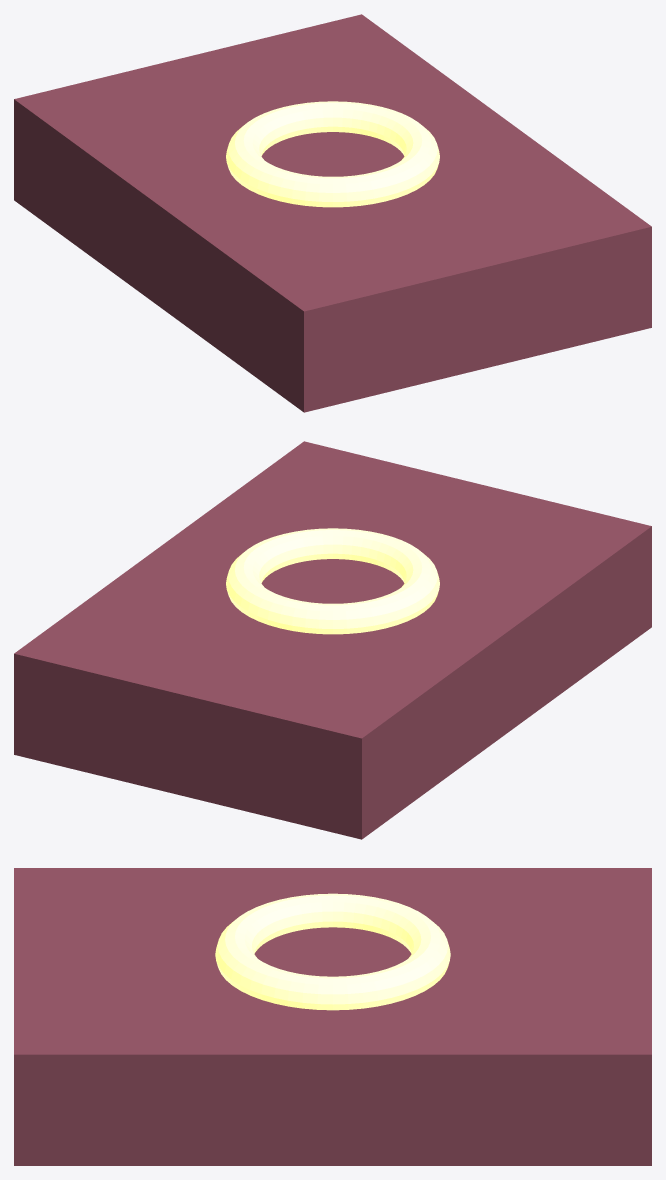
Rendered from magic_grimoire.glb.
The picture shows the model from 3 angles, top to bottom: view 1: azimuth 30°, elevation 25°; view 2: azimuth 150°, elevation 25°; view 3: azimuth 270°, elevation 25°; orthographic projection. The views are drawn at different scales.
Visible parts, largest first — view 1: Cube, Torus; view 2: Cube, Torus; view 3: Cube, Torus.
Boxes of the visible parts, x1,y1,x2,y2 form: Cube: (14, 14, 651, 412); Torus: (226, 101, 439, 207); Cube: (14, 441, 651, 839); Torus: (226, 528, 439, 634); Cube: (14, 868, 651, 1165); Torus: (215, 893, 450, 1010).
Bounding box in the file's own units: 0.18 × 0.061 × 0.26.
